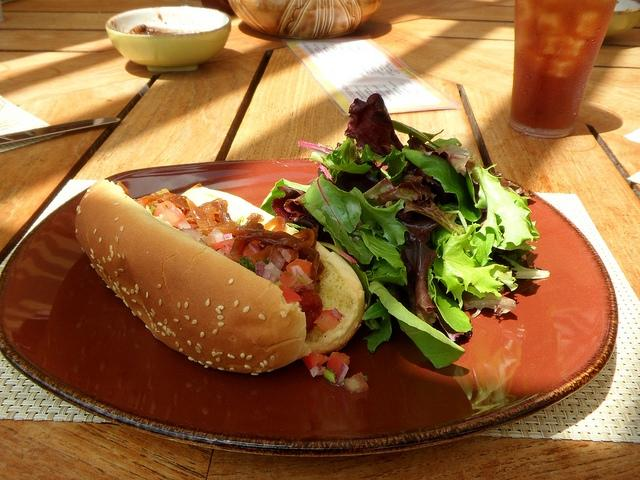lettuce: (367, 280, 465, 369), (301, 174, 374, 264), (402, 144, 482, 222), (430, 223, 510, 297), (344, 93, 404, 158), (348, 187, 410, 246), (272, 186, 334, 245), (400, 237, 438, 327), (350, 228, 408, 286), (362, 283, 397, 353), (430, 278, 472, 332), (360, 144, 408, 184), (395, 210, 443, 246), (392, 120, 444, 148), (498, 255, 550, 279), (464, 226, 494, 266), (326, 137, 361, 166)
onion: (186, 205, 217, 226), (298, 140, 334, 154), (290, 266, 314, 286), (264, 262, 283, 281), (336, 362, 348, 385), (182, 228, 201, 241), (323, 368, 338, 383), (222, 239, 235, 246), (269, 274, 279, 283), (317, 366, 326, 375), (225, 244, 232, 254), (224, 233, 233, 240)
tomato: (186, 198, 274, 236), (250, 244, 288, 262), (313, 310, 344, 332), (153, 200, 187, 219), (301, 351, 329, 372), (326, 352, 349, 374), (286, 258, 312, 277), (278, 284, 302, 304), (162, 208, 184, 226), (264, 216, 286, 232), (212, 241, 224, 251)
